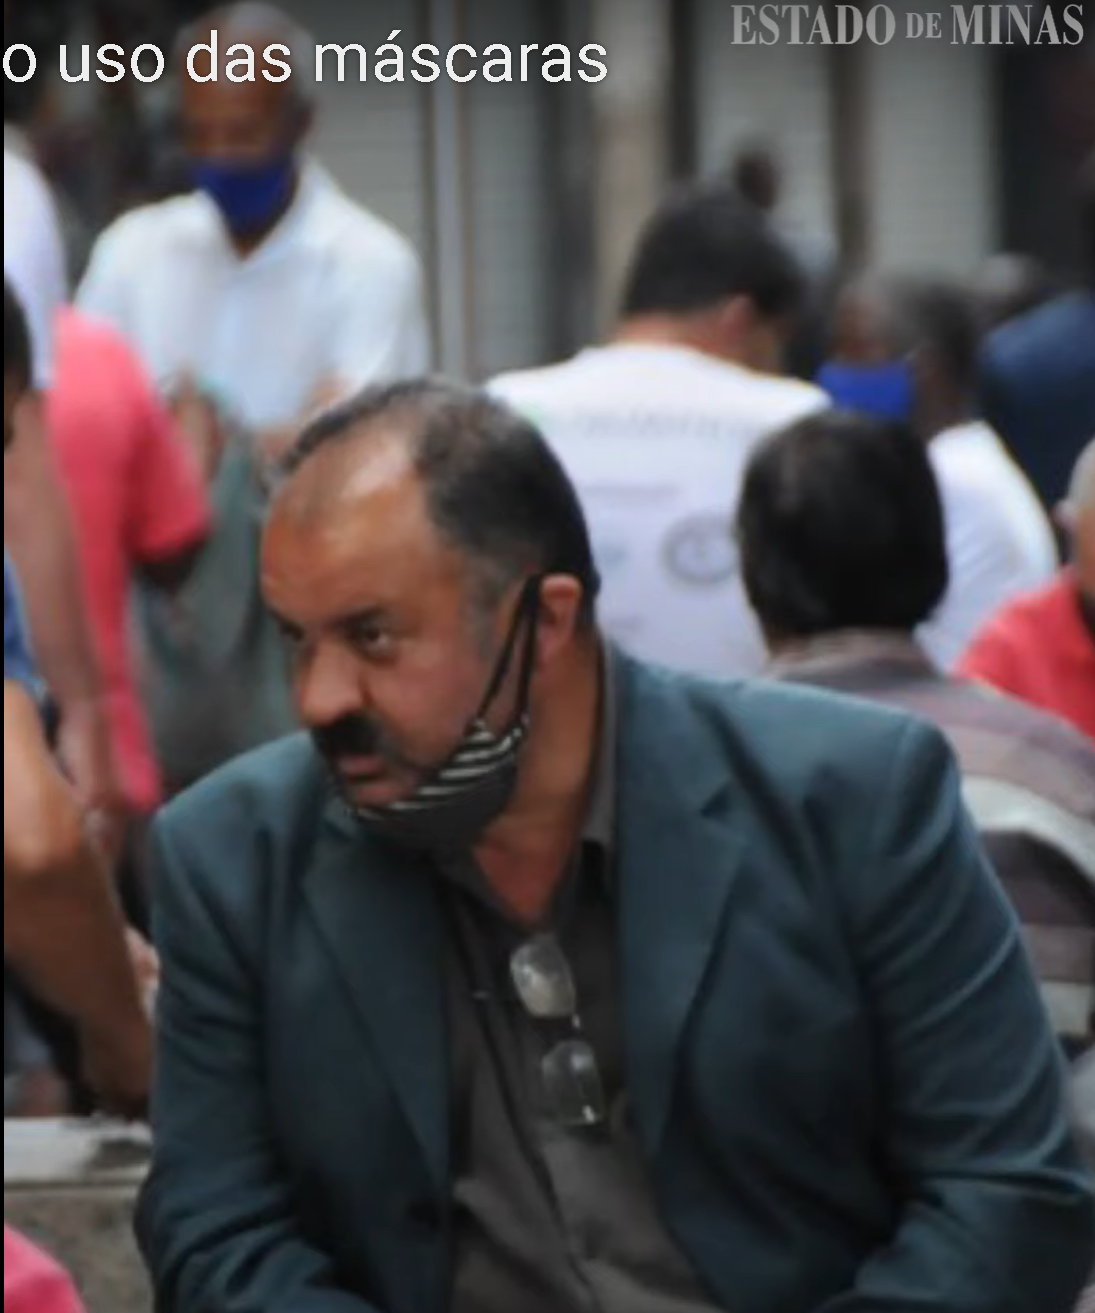mask_weared_incorrect: (253, 426, 605, 869)
